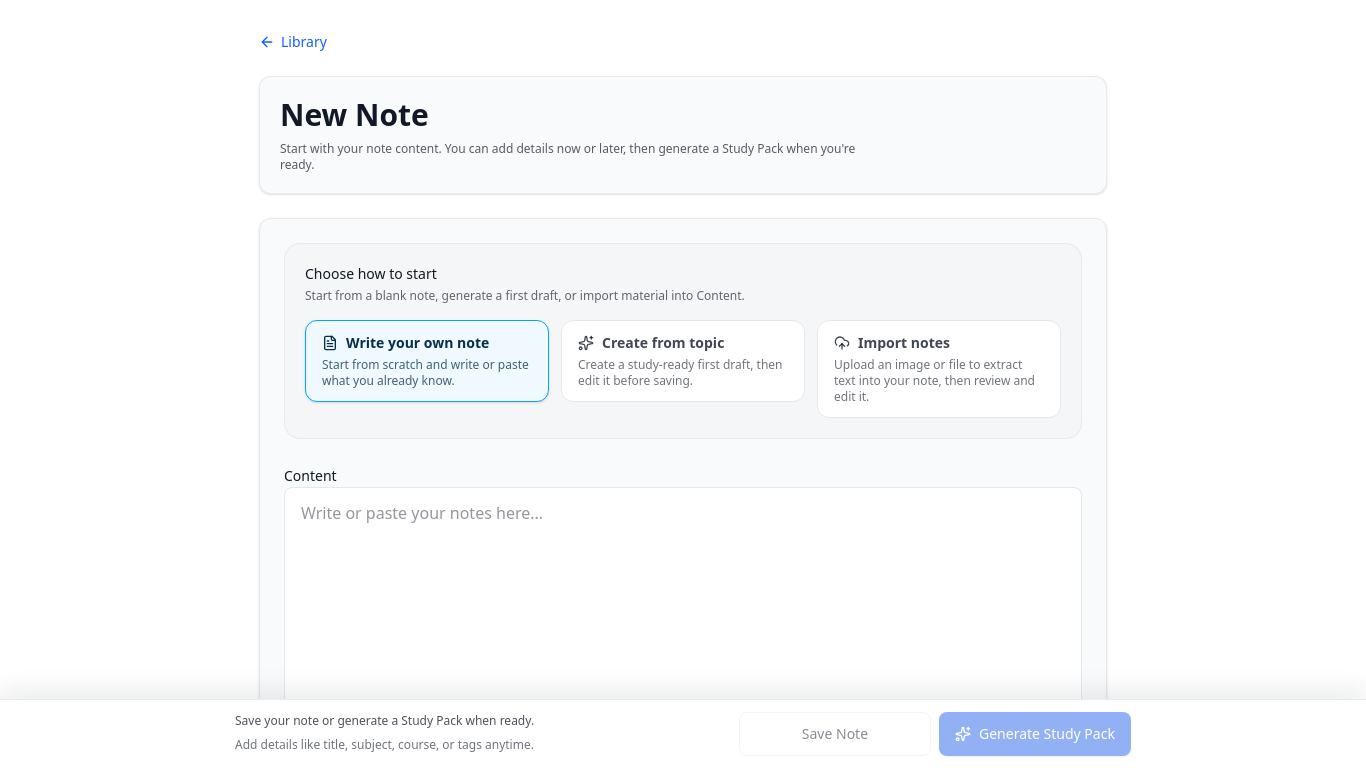
Test case: NoteEditorPageClient › expands Add details from the sticky helper link
The width and height of the screenshot is (1366, 768).
Click the button "Add details like title, subject, course, or tags anytime.": {"x": 384, "y": 745} 235,737 -> 534,753
(page scrolled)
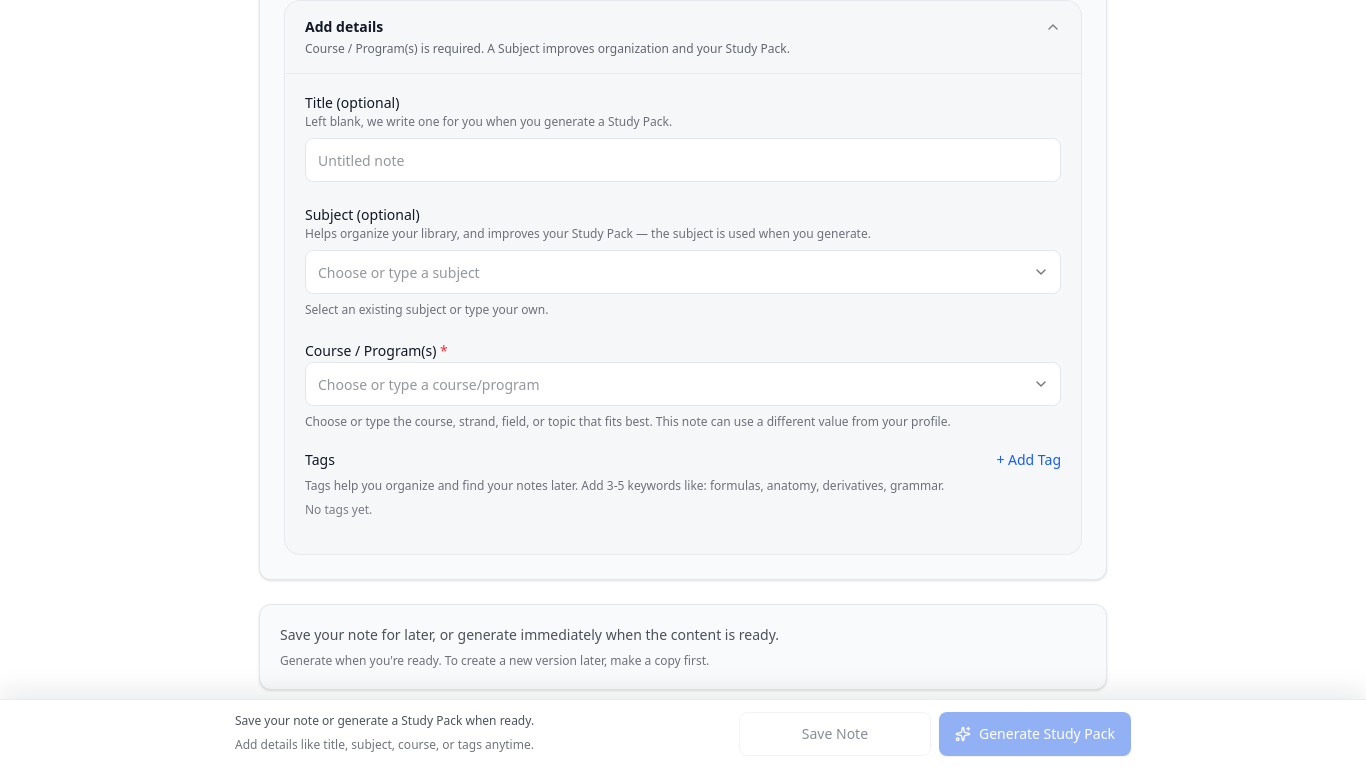
expect the field labelled "Title (optional)" is shown: met, box 305,138 -> 1061,182
expect the field labelled "Subject (optional)" is shown: met, box 305,250 -> 1061,294
